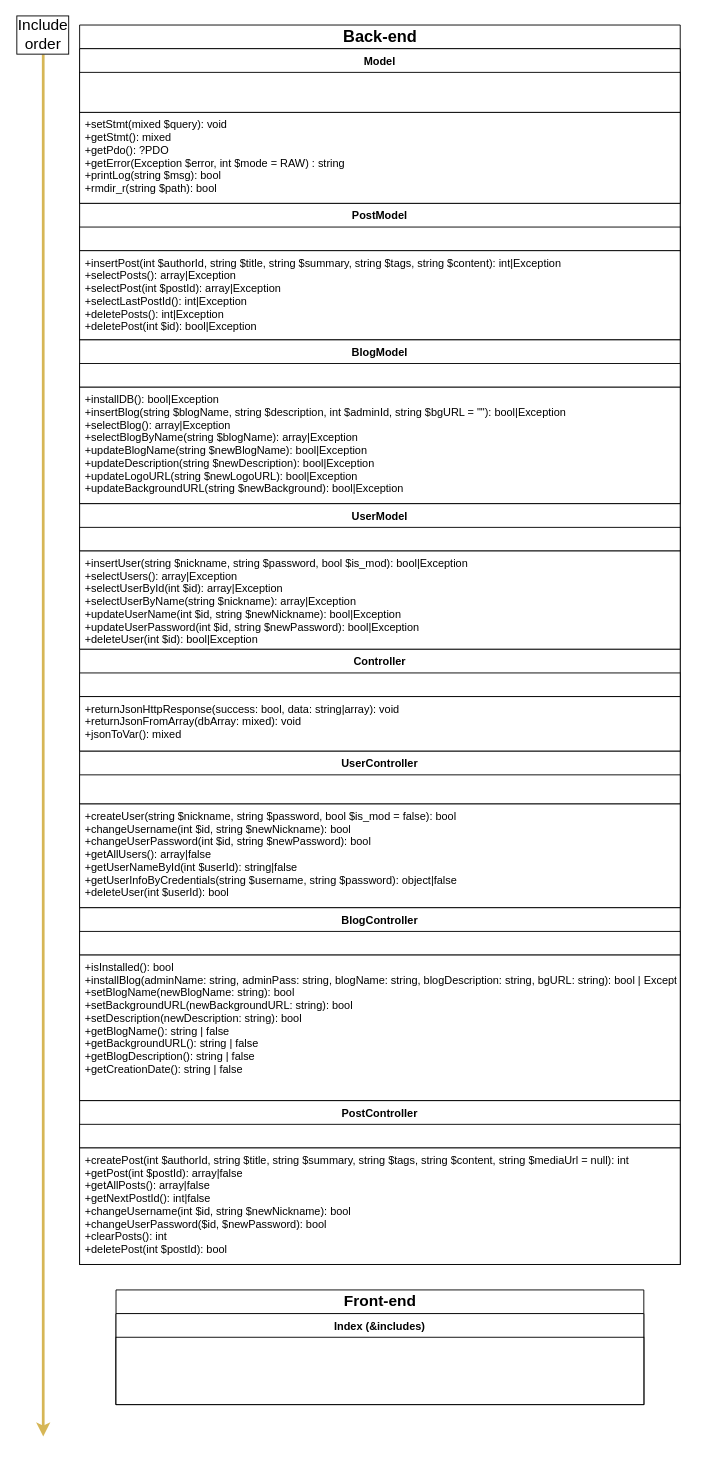
This 707x1461 diagram has some shape labels left out. The centre of each missing label's shape, as x and y in pixels:
-pdo : ?PDO -stmt : mixed: the point at 379,91
header.php head.php $_GET['page'].php footer.php: the point at 379,1370
